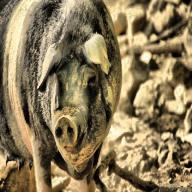boar: (0, 0, 122, 192)
